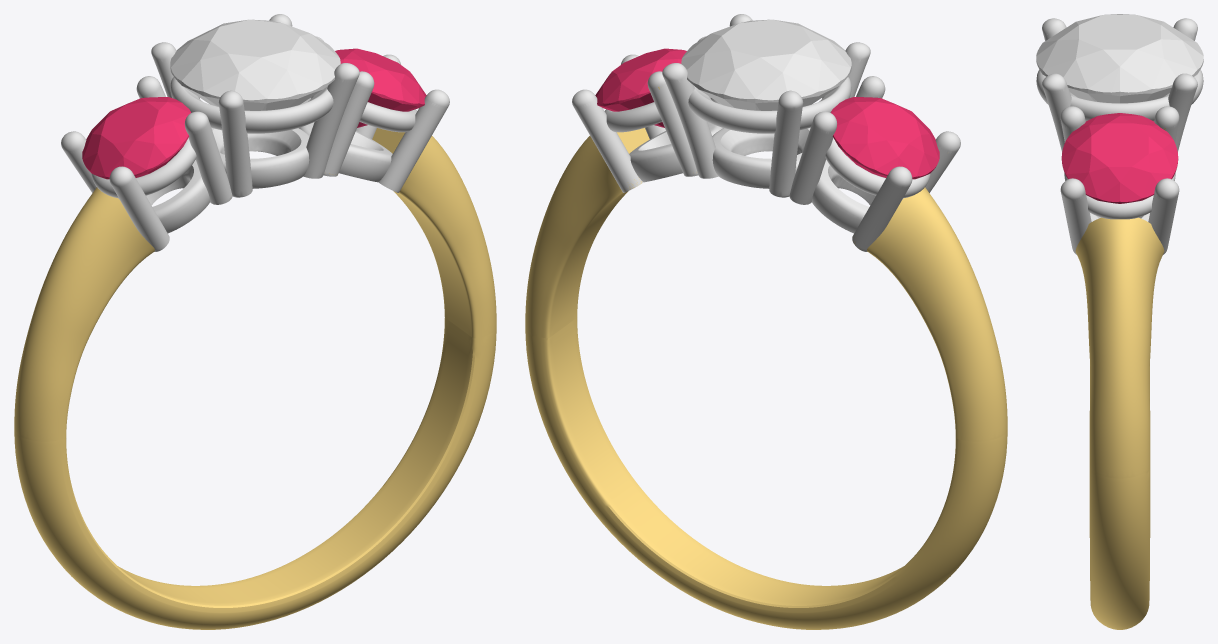
File: GeorgeV2allYG_blender.glb
3 renders of one model, left to right at view 1: azimuth 30°, elevation 25°; view 2: azimuth 150°, elevation 25°; view 3: azimuth 270°, elevation 25°, orthographic.
Visible parts, largest first — view 1: George YG new for 3d model, George PT for 3d model, George dia for 3d model, George ruby for 3d model; view 2: George YG new for 3d model, George PT for 3d model, George dia for 3d model, George ruby for 3d model; view 3: George YG new for 3d model, George dia for 3d model, George PT for 3d model, George ruby for 3d model.
Boxes of the visible parts, bbox=[...] form: George YG new for 3d model: bbox=[14, 128, 496, 629]; George PT for 3d model: bbox=[61, 14, 449, 251]; George dia for 3d model: bbox=[170, 19, 340, 110]; George ruby for 3d model: bbox=[82, 48, 426, 179]; George YG new for 3d model: bbox=[525, 87, 1007, 629]; George PT for 3d model: bbox=[572, 14, 960, 251]; George dia for 3d model: bbox=[681, 19, 851, 110]; George ruby for 3d model: bbox=[595, 48, 939, 179]; George YG new for 3d model: bbox=[1075, 128, 1165, 629]; George dia for 3d model: bbox=[1036, 14, 1203, 103]; George PT for 3d model: bbox=[1036, 18, 1203, 254]; George ruby for 3d model: bbox=[1061, 113, 1178, 203].
Size of the model in its own units: 22.18 by 26.01 by 6.9.
